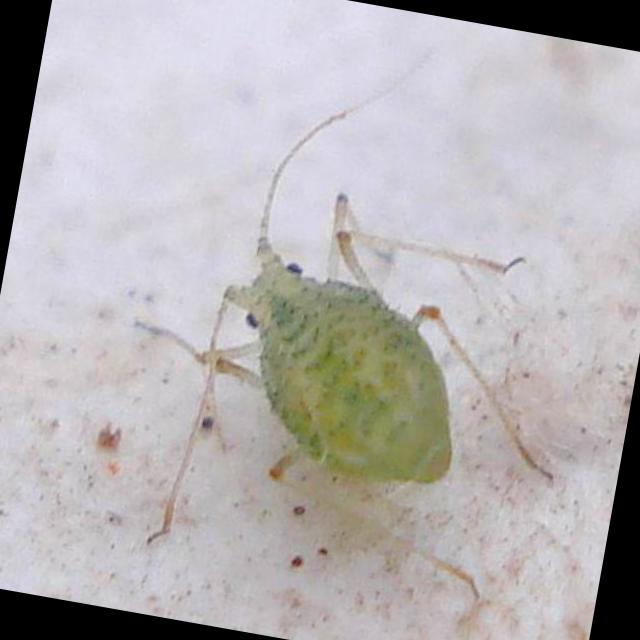Aphids: (106, 147, 590, 603)
